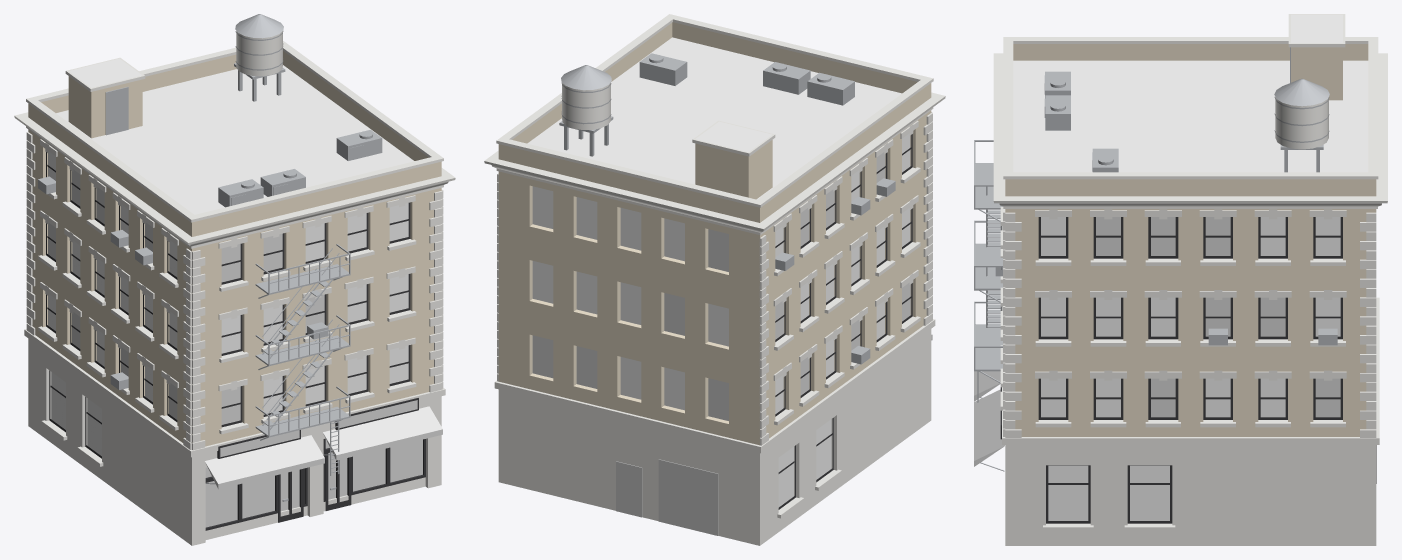
File: midtown_w44f3.glb
3 views of the same model, side by side, from view 1: azimuth 30°, elevation 25°; view 2: azimuth 150°, elevation 25°; view 3: azimuth 270°, elevation 25° (orthographic). The views are drawn at different scales.
Parts seen in each view (by area): view 1: midtown_w44f3_Walls, midtown_w44f3_Trim, midtown_w44f3_Roof, midtown_w44f3_Details, midtown_w44f3_Glass, midtown_w44f3_WindowsLit, midtown_w44f3_Frames, midtown_w44f3_Awning, midtown_w44f3_Sign; view 2: midtown_w44f3_Walls, midtown_w44f3_Trim, midtown_w44f3_Roof, midtown_w44f3_Glass, midtown_w44f3_Details, midtown_w44f3_WindowsLit, midtown_w44f3_Doors, midtown_w44f3_Frames; view 3: midtown_w44f3_Trim, midtown_w44f3_Walls, midtown_w44f3_Roof, midtown_w44f3_Glass, midtown_w44f3_Details, midtown_w44f3_Frames, midtown_w44f3_WindowsLit, midtown_w44f3_Awning.
Boxes of the visible parts, left/top/right/bottom form: midtown_w44f3_Walls: left=28, top=51, right=441, bottom=446; midtown_w44f3_Trim: left=14, top=31, right=455, bottom=545; midtown_w44f3_Roof: left=56, top=58, right=414, bottom=214; midtown_w44f3_Details: left=38, top=14, right=382, bottom=501; midtown_w44f3_Glass: left=48, top=152, right=408, bottom=456; midtown_w44f3_WindowsLit: left=48, top=169, right=422, bottom=527; midtown_w44f3_Frames: left=46, top=152, right=425, bottom=530; midtown_w44f3_Awning: left=205, top=406, right=442, bottom=489; midtown_w44f3_Sign: left=220, top=400, right=417, bottom=457; midtown_w44f3_Walls: left=498, top=22, right=931, bottom=445; midtown_w44f3_Trim: left=484, top=14, right=945, bottom=545; midtown_w44f3_Roof: left=527, top=37, right=901, bottom=199; midtown_w44f3_Glass: left=532, top=133, right=910, bottom=507; midtown_w44f3_Details: left=559, top=53, right=895, bottom=364; midtown_w44f3_WindowsLit: left=532, top=152, right=910, bottom=420; midtown_w44f3_Doors: left=616, top=459, right=718, bottom=535; midtown_w44f3_Frames: left=775, top=134, right=912, bottom=509; midtown_w44f3_Trim: left=993, top=14, right=1387, bottom=545; midtown_w44f3_Walls: left=1005, top=44, right=1376, bottom=436; midtown_w44f3_Roof: left=1013, top=14, right=1368, bottom=172; midtown_w44f3_Glass: left=1041, top=217, right=1340, bottom=520; midtown_w44f3_Details: left=974, top=47, right=1337, bottom=471; midtown_w44f3_Frames: left=1000, top=217, right=1342, bottom=523; midtown_w44f3_WindowsLit: left=1096, top=217, right=1340, bottom=417; midtown_w44f3_Awning: left=974, top=371, right=1004, bottom=466.
Bounding box in the file's own units: 47.12 × 65.12 × 55.76.
